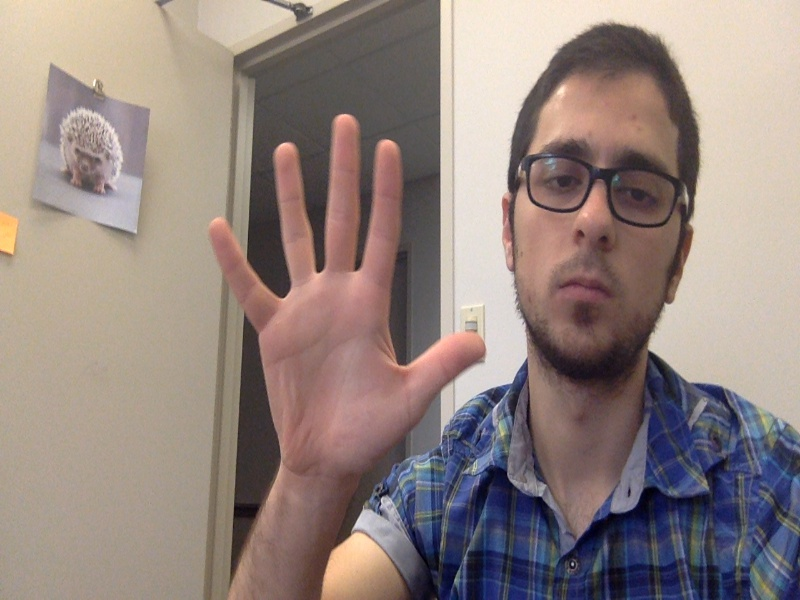5-hand: (209, 112, 486, 474)
